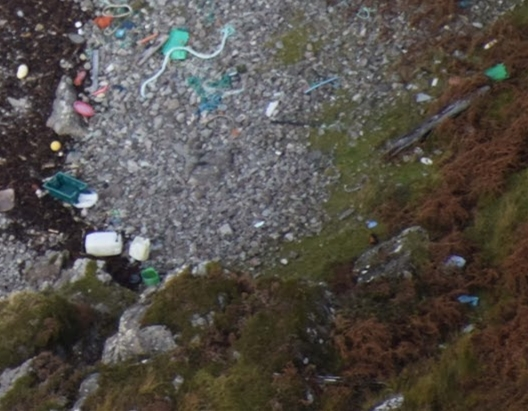scattered_barrel: (434, 244, 498, 342)
straight_bar: (374, 84, 494, 168)
together_barrel: (62, 1, 287, 120), (35, 170, 170, 288)
white_in_green: (471, 45, 524, 96), (30, 121, 78, 165), (1, 46, 46, 92), (352, 202, 394, 245)
